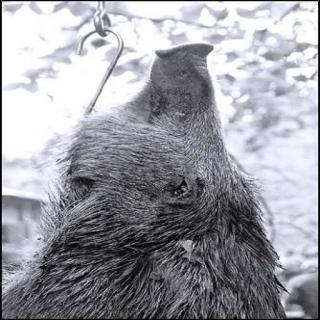Pig: (70, 30, 279, 320)
